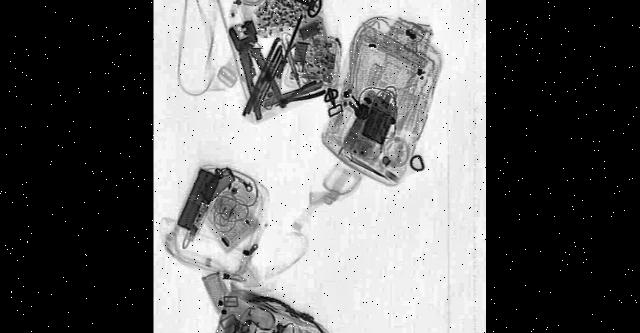Pliers: (226, 2, 283, 133)
